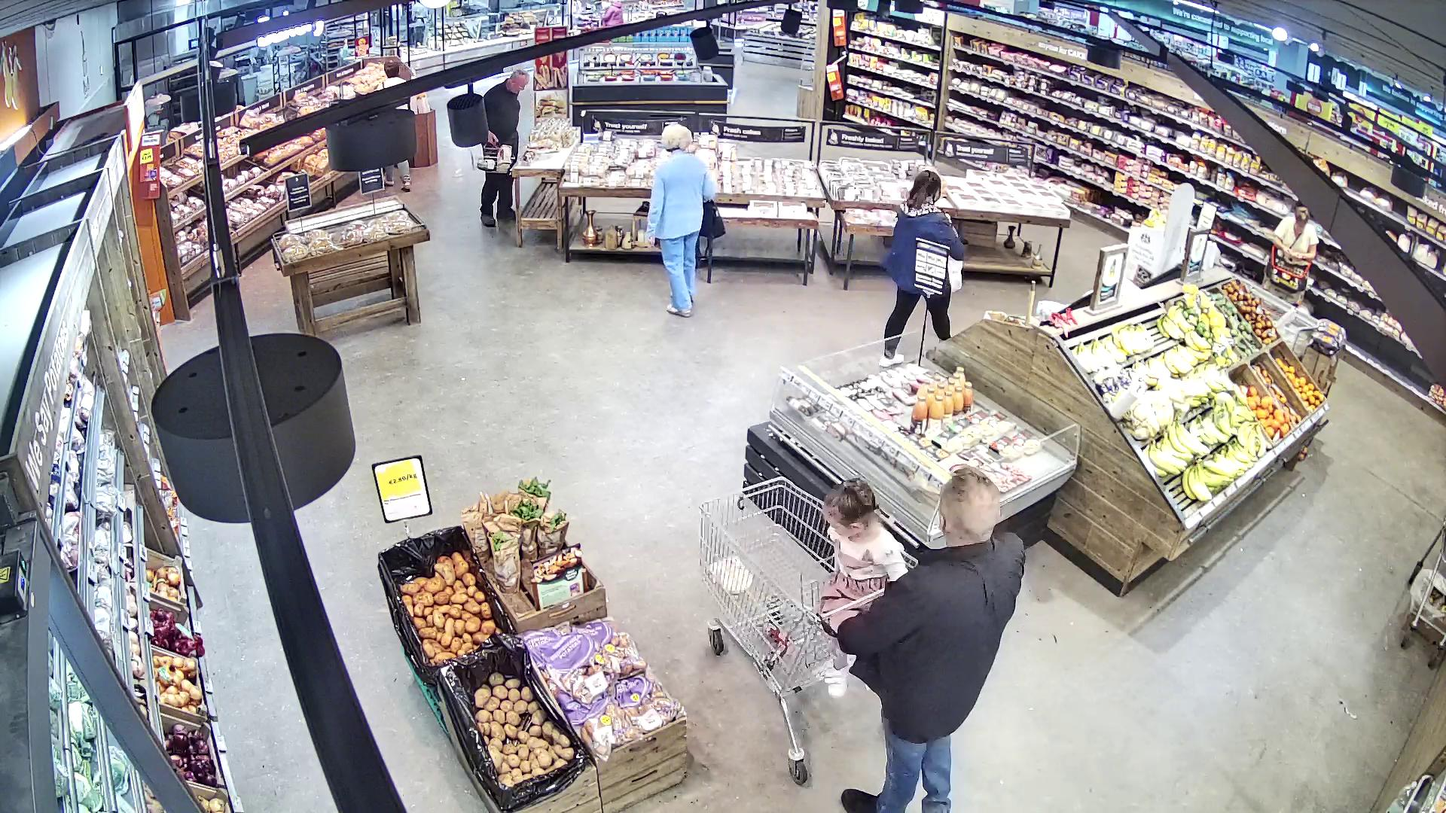backpack-or-handbag: (700, 199, 726, 239)
filled-basket: (468, 140, 514, 173)
person: (646, 124, 715, 317), (480, 69, 529, 226)
person-with-backpack-handbag: (645, 124, 726, 316)
person-with-filled-basket-trolly: (468, 68, 529, 226)
